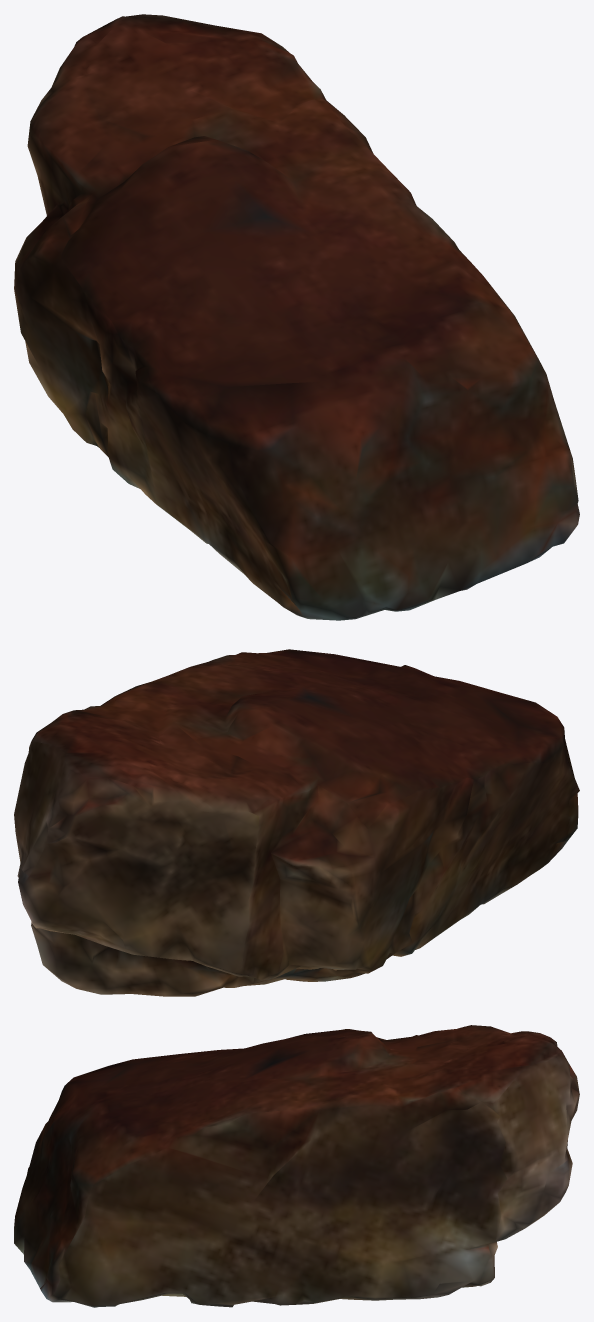
The model's file is ph-rock-07.lod1.glb.
3 views of the same model, one above another, from view 1: azimuth 30°, elevation 25°; view 2: azimuth 150°, elevation 25°; view 3: azimuth 270°, elevation 25° (orthographic). The views are drawn at different scales.
Parts seen in each view (by area): view 1: rock_07; view 2: rock_07; view 3: rock_07.
Part boxes in pixels (x1=…): rock_07: x1=14, y1=14, x2=579, y2=620; rock_07: x1=14, y1=649, x2=579, y2=996; rock_07: x1=14, y1=1025, x2=579, y2=1307.
Size of the model in its own units: 0.1681 by 0.1434 by 0.3199.
Materials: 1 (1 with a texture image).
